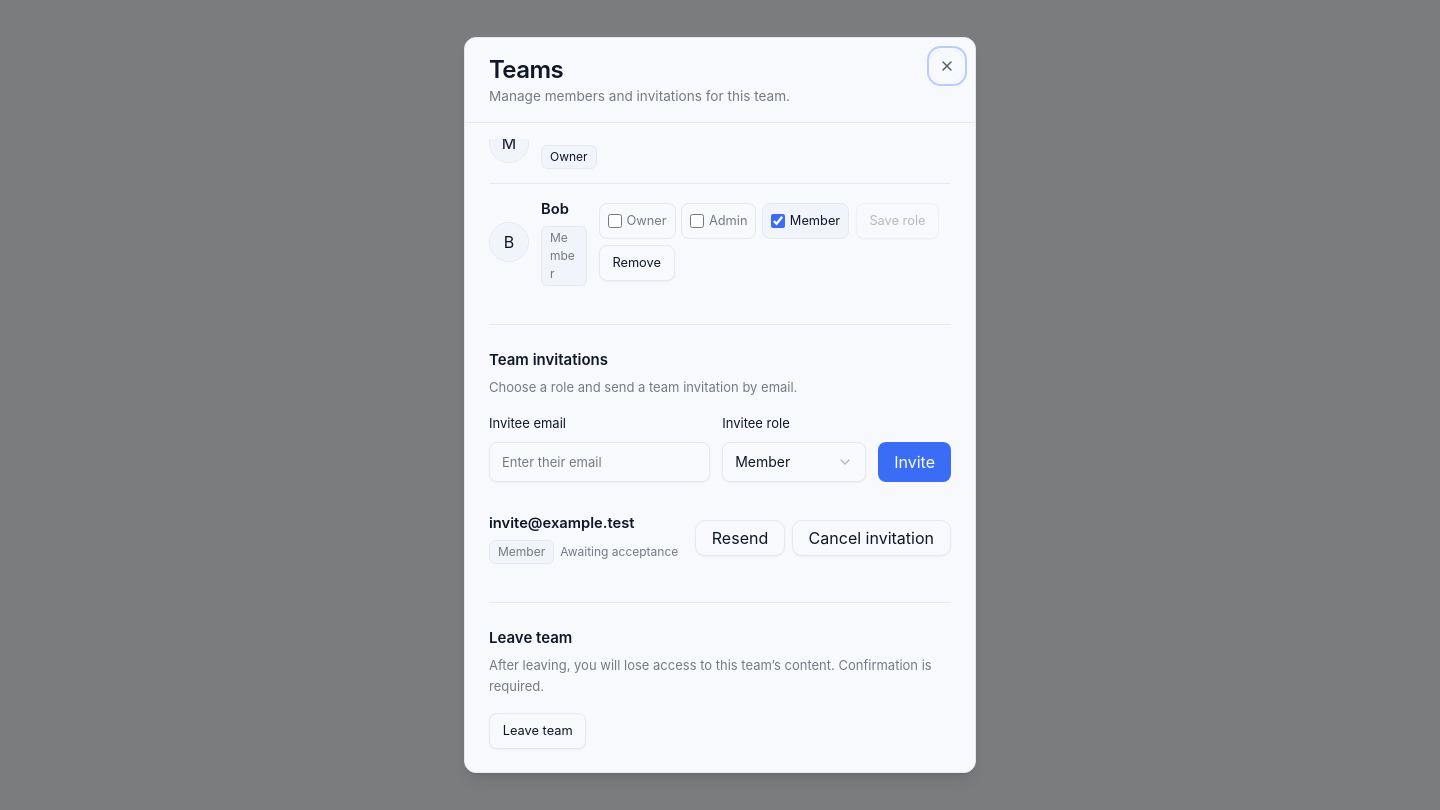
Test: fixed-tenant Team Product UI › supports explicit leave and presents LAST_OWNER without automatic retry
(page scrolled)
Click the button with test id "team-leave".
click(538, 731)  # box x1=489 y1=713 x2=586 y2=749
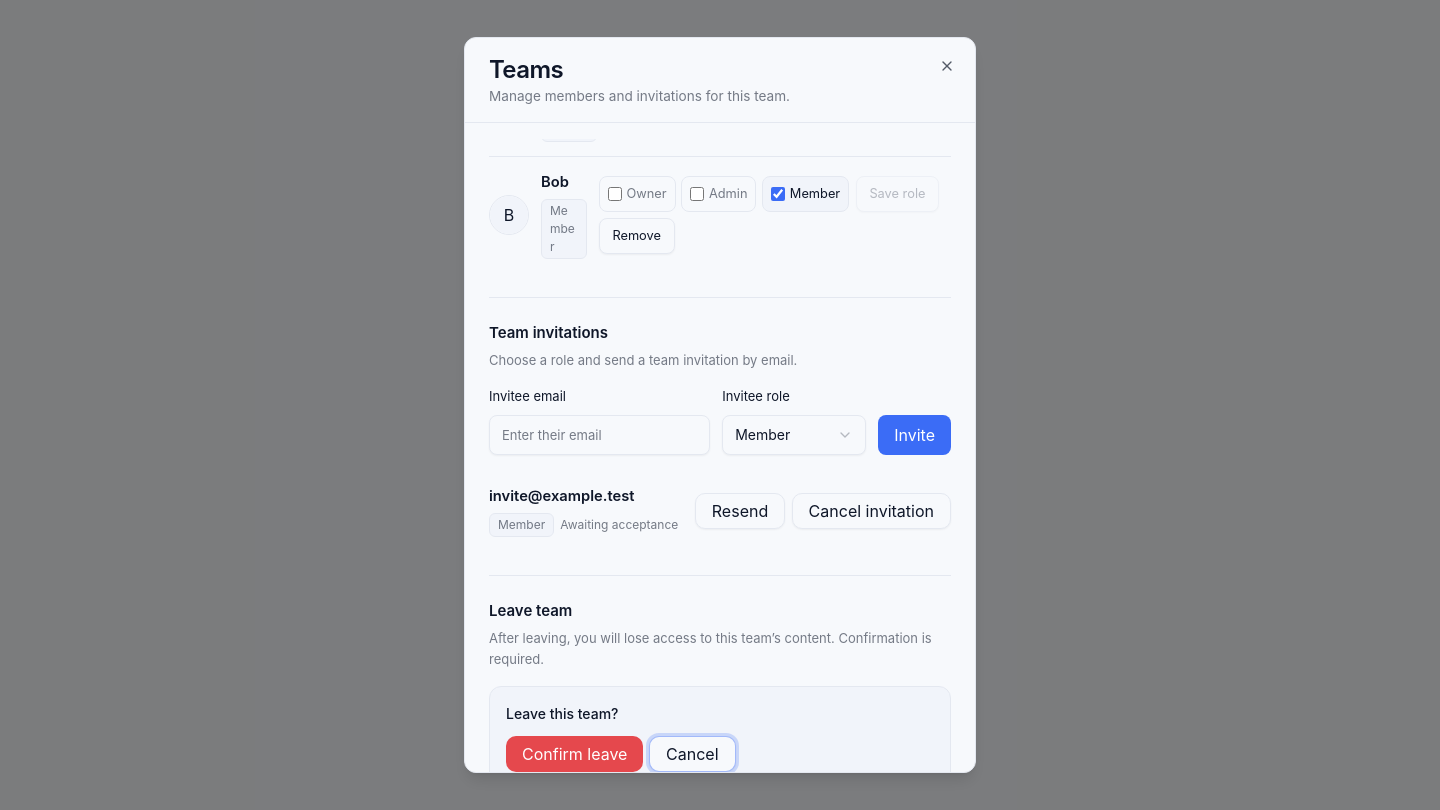
Click the button with test id "team-leave-confirm".
click(575, 754)  # box x1=506 y1=736 x2=643 y2=772
(page scrolled)
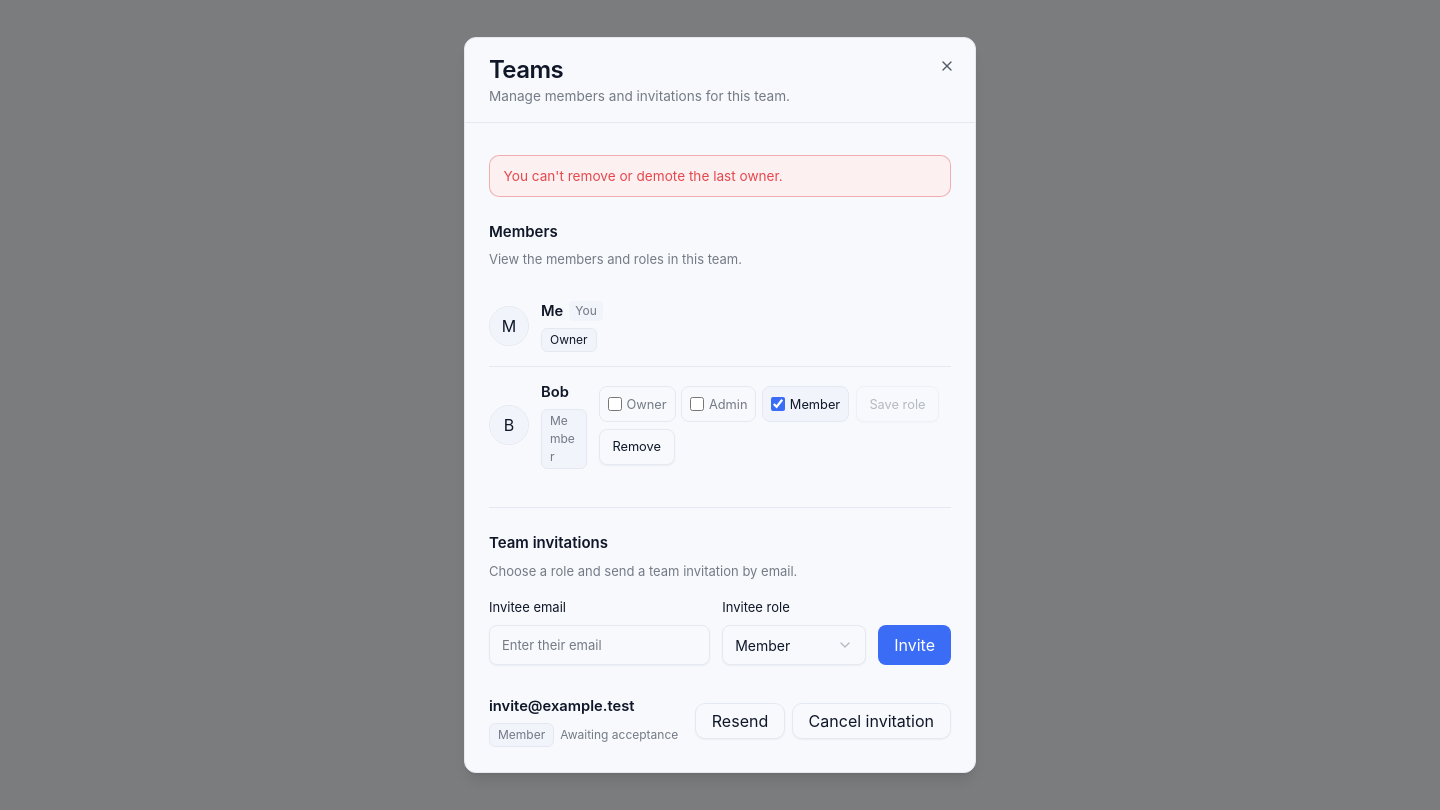
Expected: the message "You can't remove or demote the last owner." is shown, x1=489 y1=155 x2=951 y2=197
